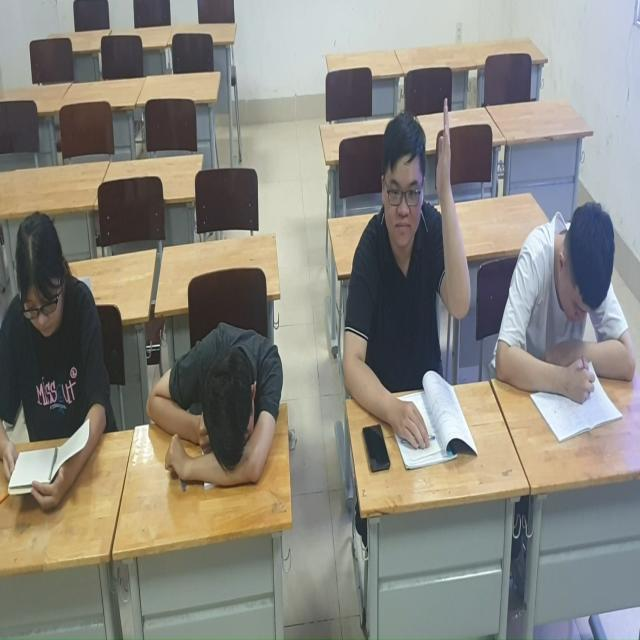raise_hand: (345, 91, 477, 451)
read: (492, 183, 640, 464), (1, 205, 116, 535)
sleep: (146, 284, 296, 514)
